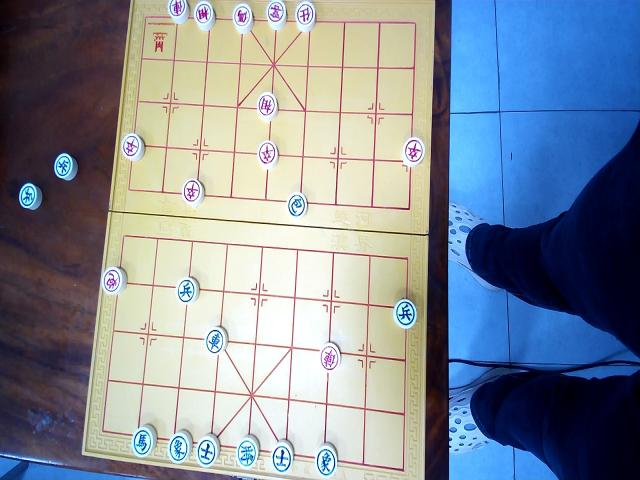piece: (235, 434, 259, 470), (131, 425, 156, 459), (167, 430, 191, 465), (196, 432, 220, 467), (315, 443, 338, 478), (101, 266, 127, 296), (392, 298, 417, 329), (271, 440, 293, 475), (401, 136, 425, 168), (175, 275, 199, 305), (120, 132, 144, 162), (294, 1, 316, 33), (318, 342, 341, 372), (265, 0, 287, 31), (232, 3, 254, 34), (256, 91, 278, 121), (205, 326, 227, 356), (193, 1, 215, 31), (182, 178, 204, 207), (286, 190, 308, 218), (257, 139, 277, 169), (168, 0, 190, 25)
